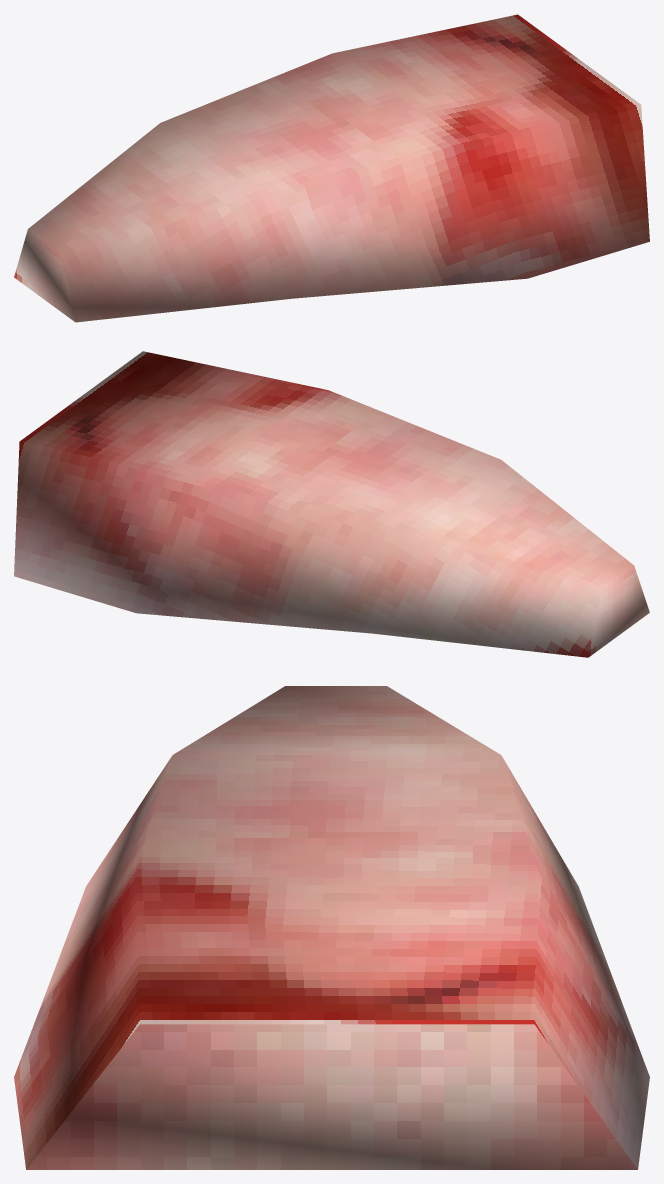
Rendered from Lung.glb.
3 views of the same model, one above another, from view 1: azimuth 30°, elevation 25°; view 2: azimuth 150°, elevation 25°; view 3: azimuth 270°, elevation 25° (orthographic). The views are drawn at different scales.
Visible parts, largest first — view 1: Lung; view 2: Lung; view 3: Lung.
Boxes of the visible parts, left/top/right/bottom form: Lung: left=14, top=14, right=649, bottom=322; Lung: left=14, top=351, right=649, bottom=657; Lung: left=14, top=686, right=649, bottom=1169.
Bounding box in the file's own units: 1.23 × 0.2492 × 0.7903.
Materials: 1 (1 with a texture image).
